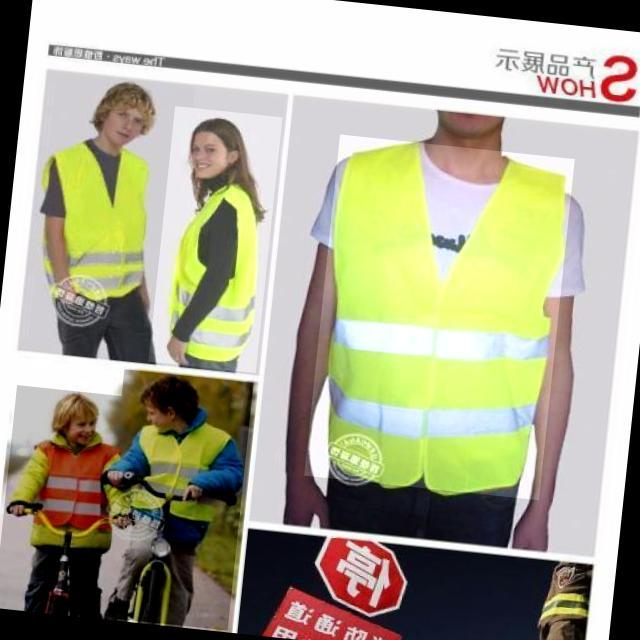Human: (18, 70, 195, 366), (98, 370, 253, 632), (148, 106, 282, 373), (0, 384, 140, 620)
Safety Vest: (304, 134, 575, 500), (163, 183, 265, 366), (43, 138, 157, 300), (112, 416, 235, 531), (28, 436, 126, 546)
